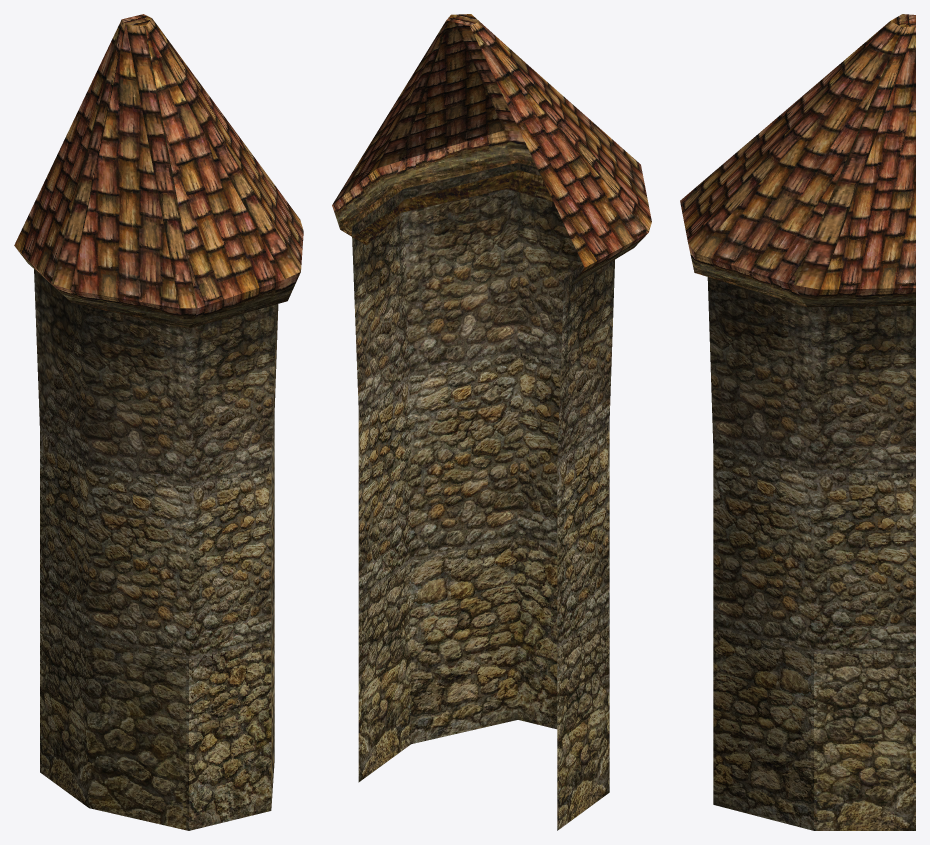
The model's file is hrz00.glb.
The picture shows the model from 3 angles, left to right: view 1: azimuth 30°, elevation 25°; view 2: azimuth 150°, elevation 25°; view 3: azimuth 270°, elevation 25°; orthographic projection. The views are drawn at different scales.
Visible parts, largest first — view 1: hrz00-col; view 2: hrz00-col; view 3: hrz00-col.
Part boxes in pixels (left/top/right/bottom): hrz00-col: left=14, top=14, right=303, bottom=830; hrz00-col: left=332, top=14, right=651, bottom=830; hrz00-col: left=680, top=14, right=915, bottom=830.
Size of the model in its own units: 6.09 by 16.97 by 4.75.
Materials: 6 (6 with a texture image).
